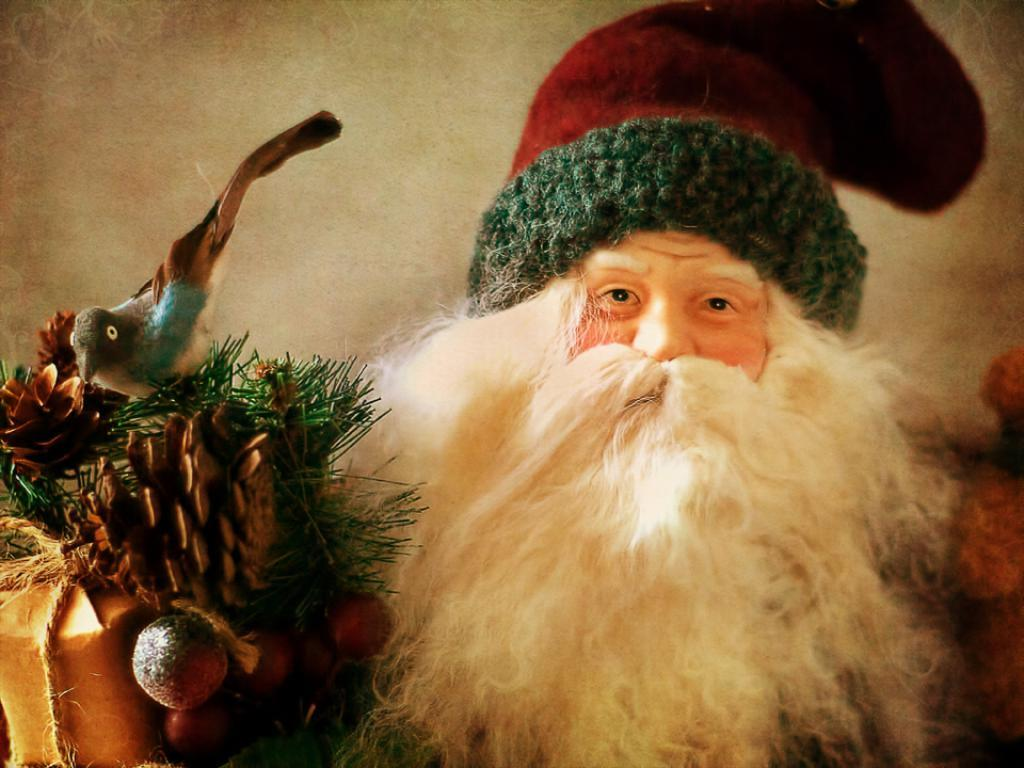Sem Máscara: (555, 203, 794, 443)
